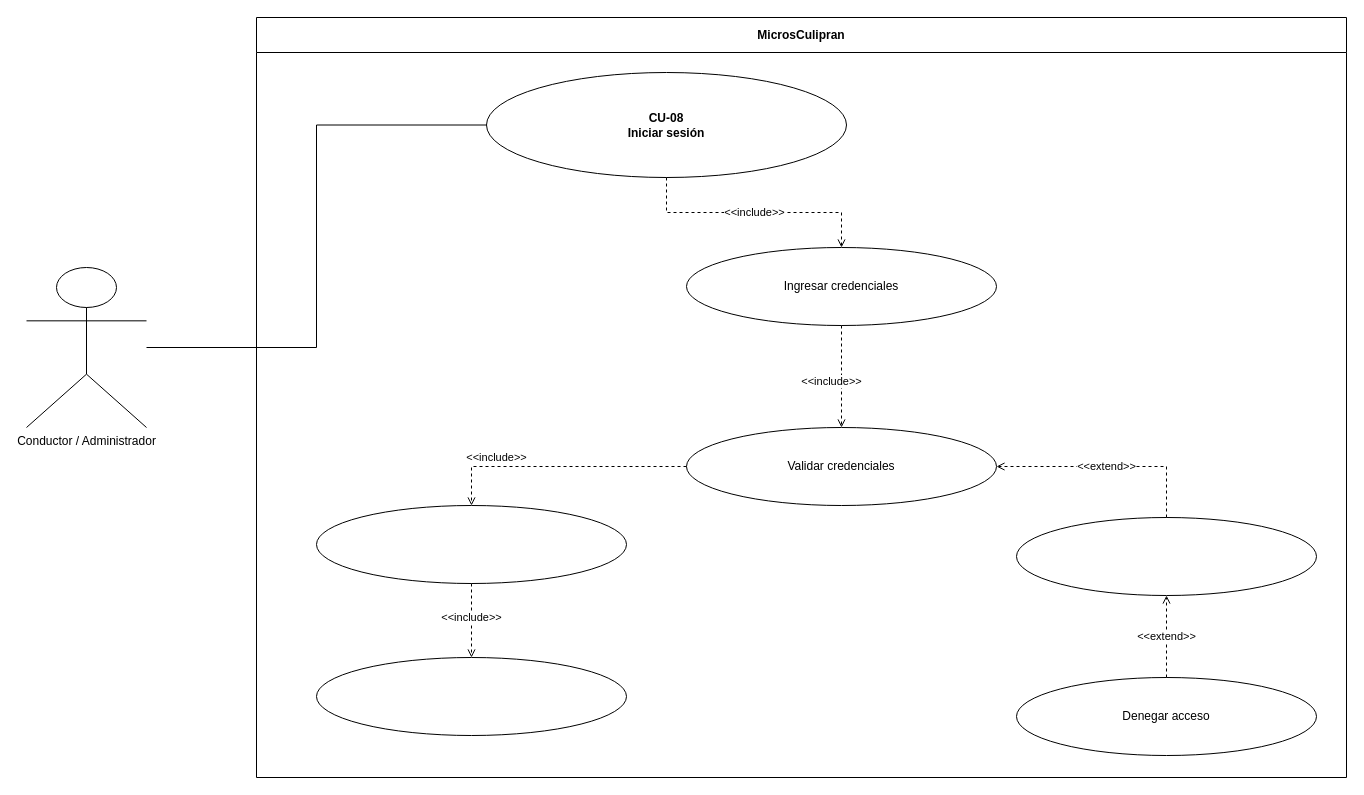
The diagram is 1364 pixels wide and 795 high, and some of its shapes have lost their labels. Each missing label, with the centre of its shape:
"Cargar módulo según rol" goes at [471,696].
"Identificar rol" goes at [471,544].
"Informar credenciales inválidas" goes at [1166,556].
